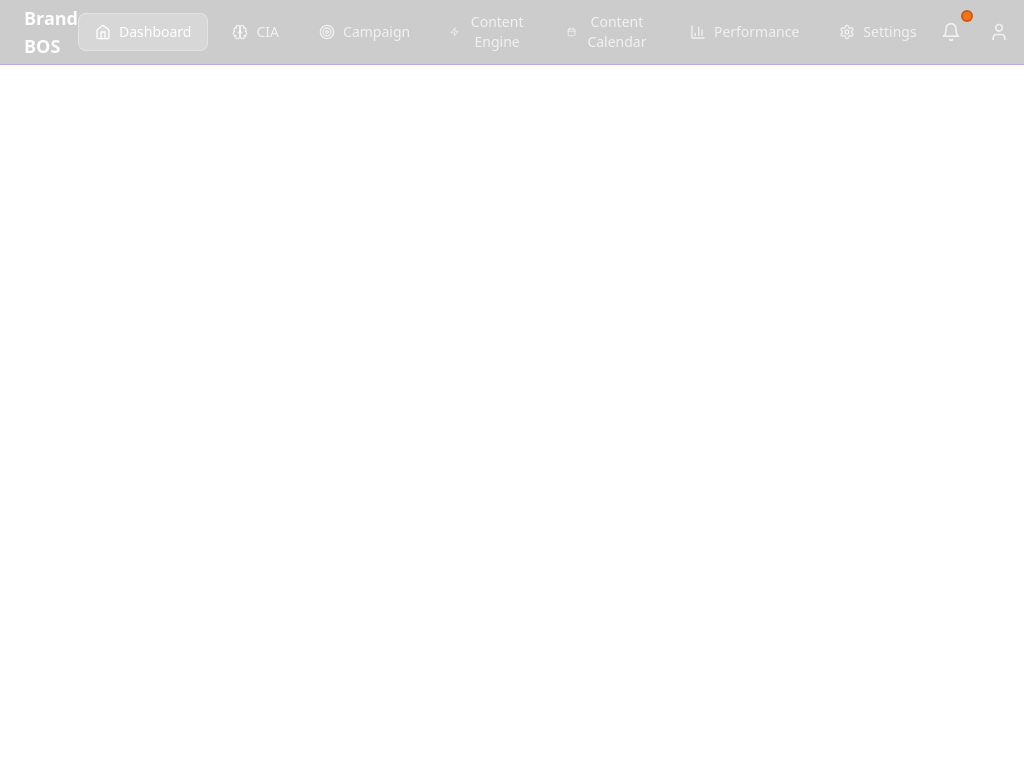
Scenario: TopNavigation › Notifications › should toggle notifications dropdown when bell icon is clicked
Expected: the text "Notifications" is not shown
Click the 8th button.
click(951, 32)  # box top-left (933, 14), bottom-right (969, 50)
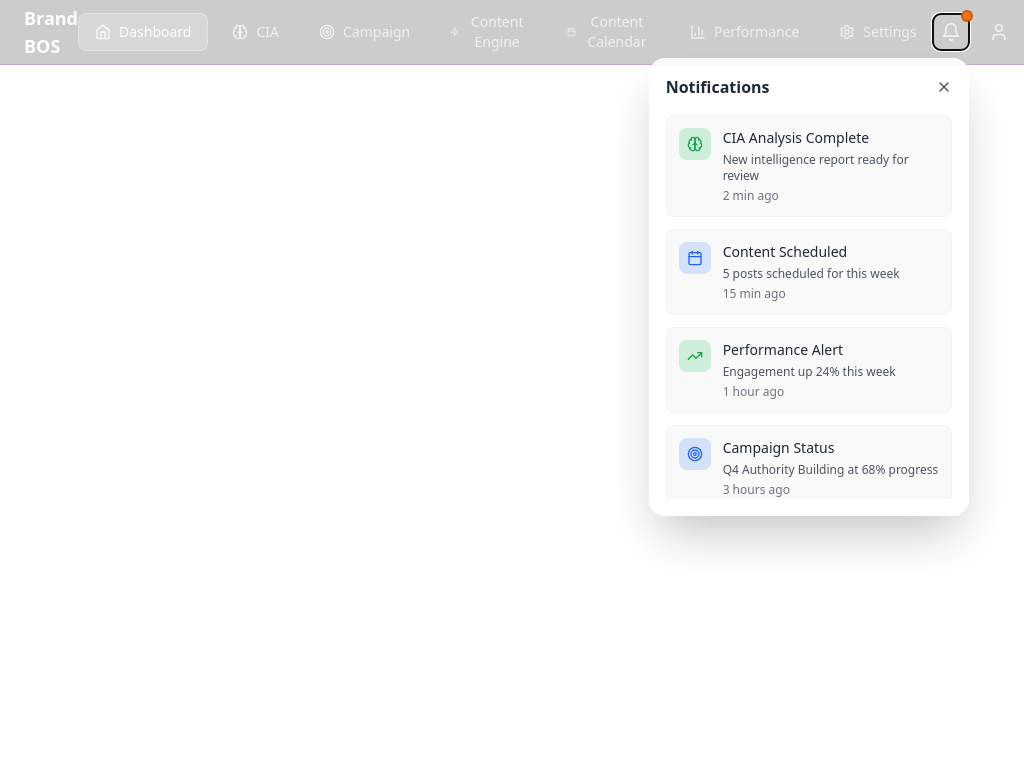
Now the heading "Notifications" is shown, box top-left (666, 75), bottom-right (770, 99)
Now the text "CIA Analysis Complete" is shown, box top-left (723, 128), bottom-right (869, 147)
Now the text "Content Scheduled" is shown, box top-left (723, 242), bottom-right (847, 261)
